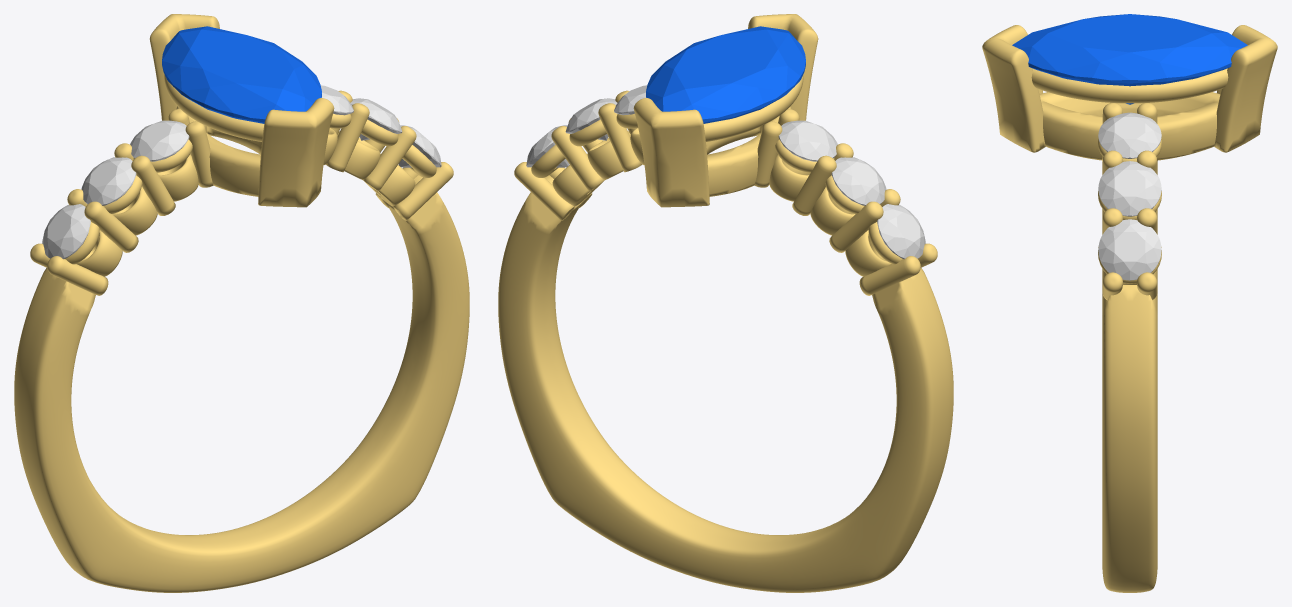
File: bluesapphire-marquise-yellowgold-protectededges2prongs-europeanshank-7stone.glb
3 views of the same model, side by side, from view 1: azimuth 30°, elevation 25°; view 2: azimuth 150°, elevation 25°; view 3: azimuth 270°, elevation 25° (orthographic).
Parts seen in each view (by area): view 1: metal, stone, side, side.003, side.004, side.006, side.005; view 2: metal, stone, side, side.003, side.004, side.006, side.005; view 3: metal, stone, side.005, side.006, side.007.
Boxes of the visible parts, x1,y1,x2,y2 form: metal: (14,14,469,592); stone: (162,26,321,123); side: (42,204,90,259); side.003: (81,157,136,205); side.004: (130,120,189,161); side.006: (350,98,402,140); side.005: (398,125,441,167); metal: (498,14,953,592); stone: (646,26,805,123); side: (877,204,925,259); side.003: (831,157,886,205); side.004: (778,120,837,161); side.006: (565,98,617,140); side.005: (526,125,569,167); metal: (982,25,1277,592); stone: (1012,14,1247,104); side.005: (1098,219,1161,280); side.006: (1098,161,1161,216); side.007: (1098,112,1161,158).
Bounding box in the file's own units: 20.11 × 22.73 × 11.69.
